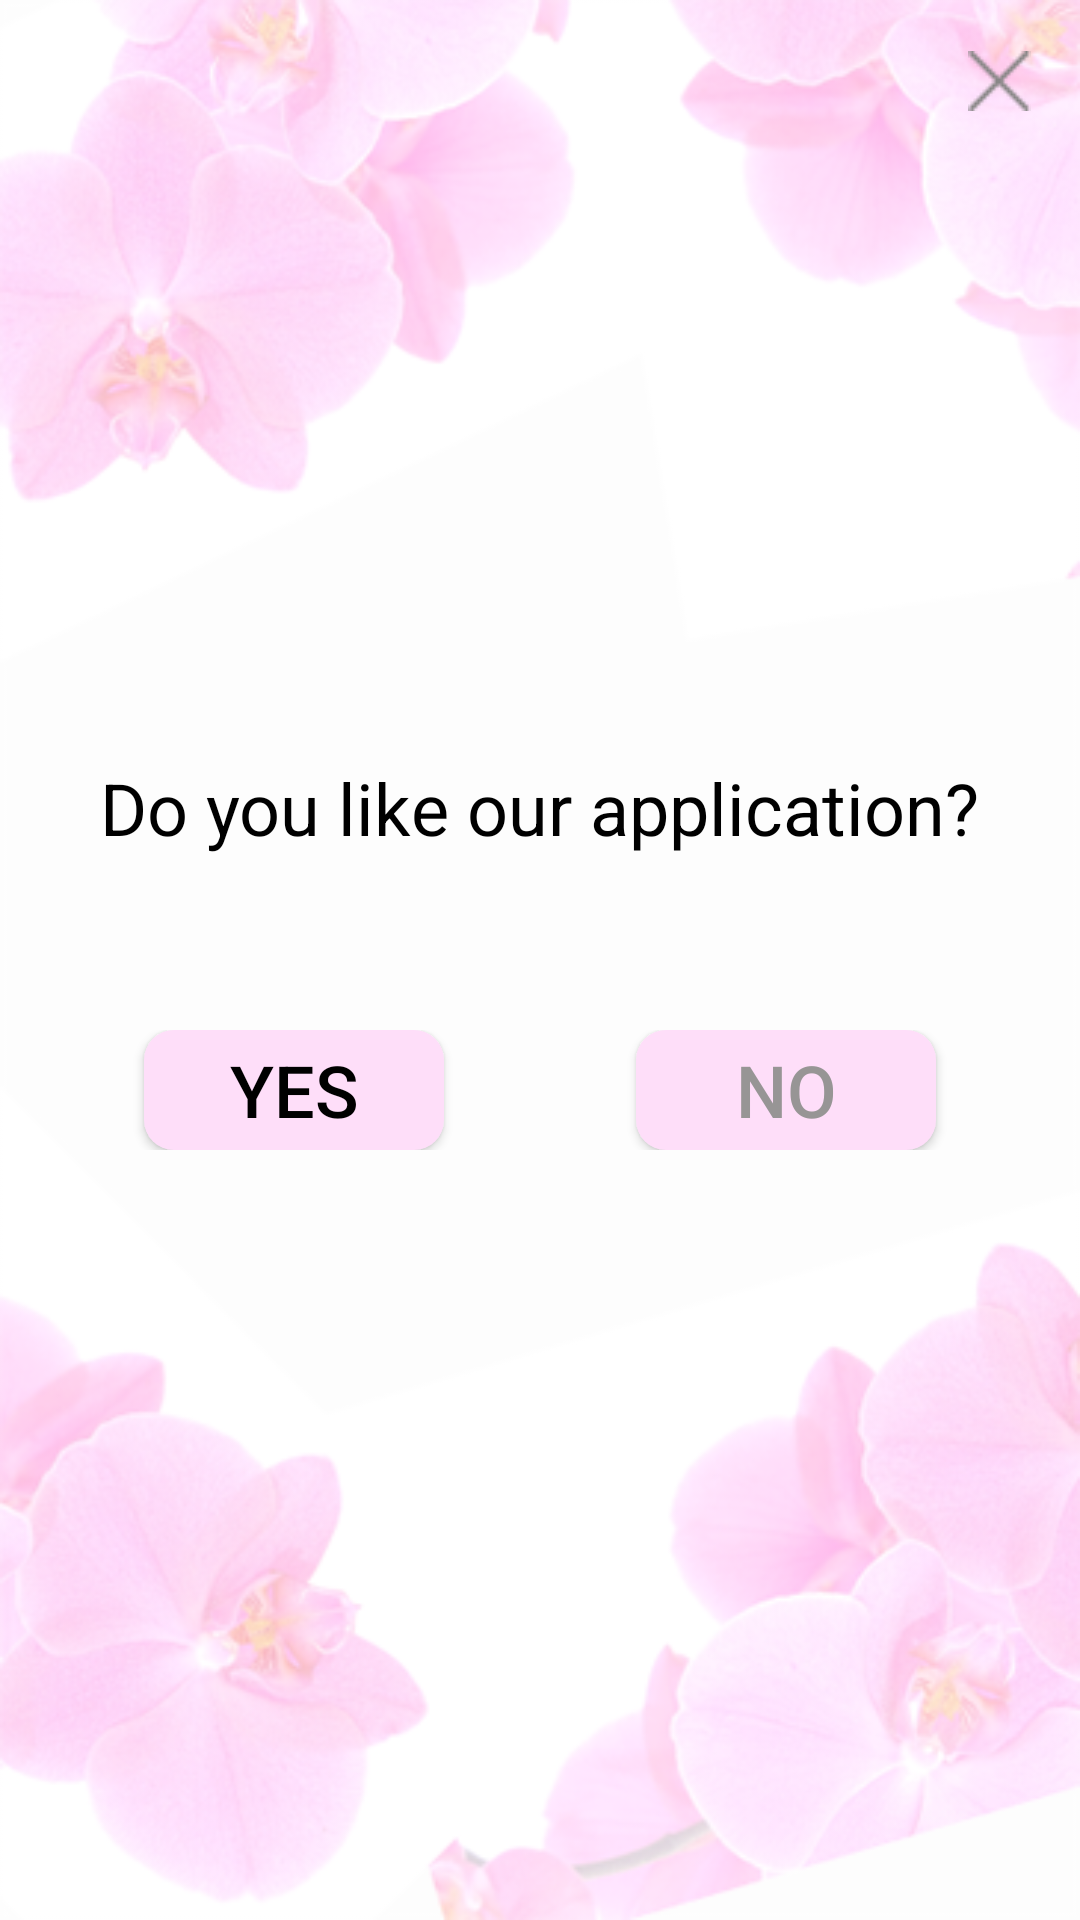

Icon bounding boxes for this 1080 × 1920 phone screenshot, format Rect(x1, y1, x2, y2):
exit review: Rect(963, 45, 1035, 111)
